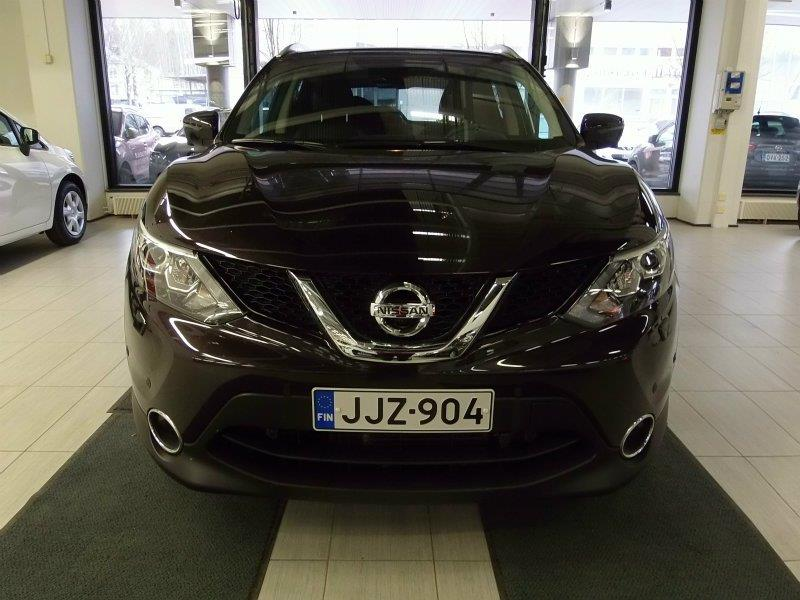license: (307, 381, 491, 438)
